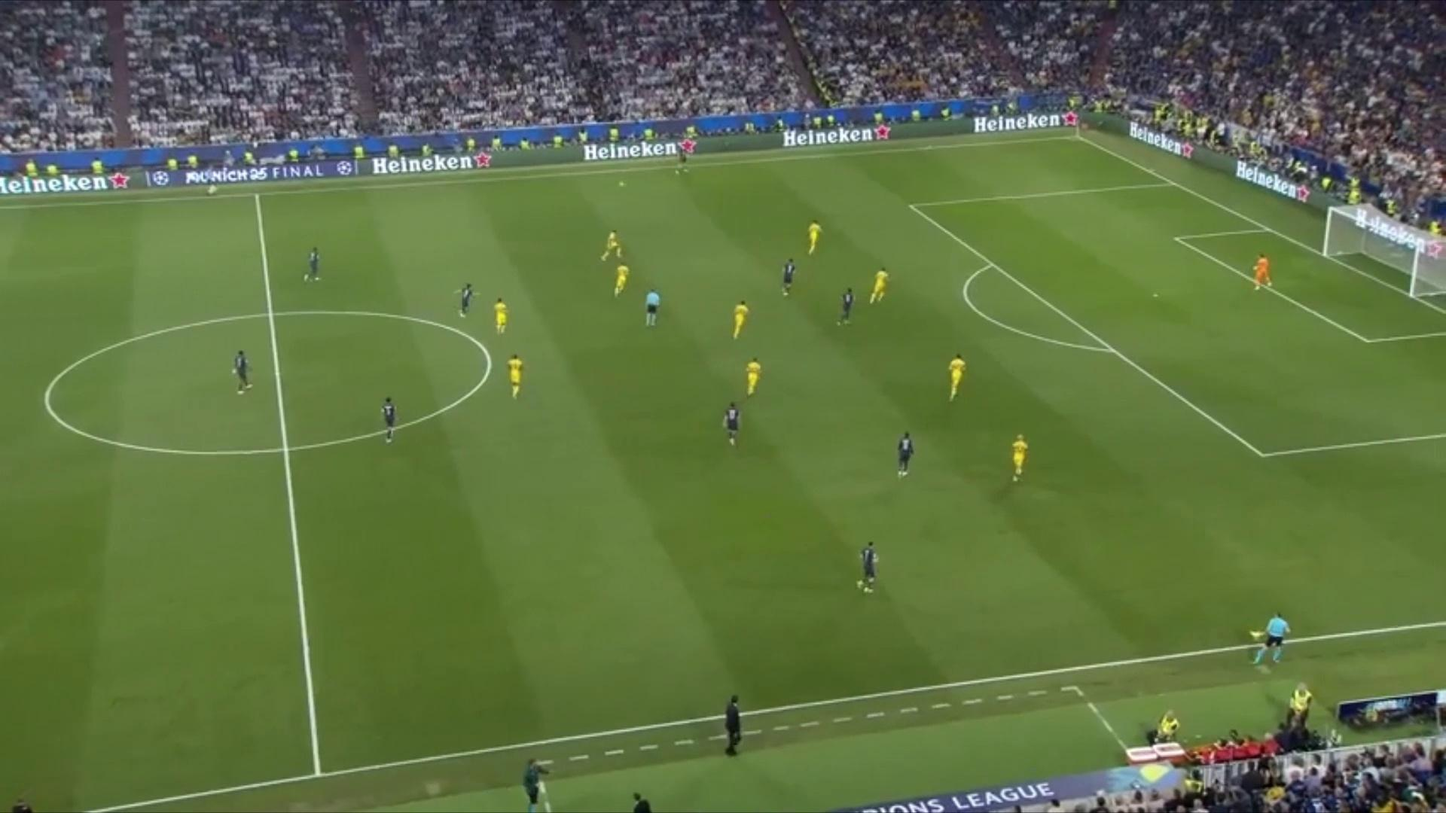ball: (614, 172, 630, 195)
player_A: (851, 534, 884, 598), (227, 347, 260, 401), (297, 244, 327, 289), (721, 396, 744, 454), (379, 393, 402, 448), (451, 281, 480, 323), (778, 250, 797, 300), (838, 282, 856, 332), (896, 426, 912, 482), (675, 133, 687, 176)
player_B: (485, 288, 512, 340), (868, 257, 894, 308), (505, 345, 529, 399), (597, 225, 628, 266), (740, 350, 765, 400), (945, 350, 967, 401), (610, 253, 634, 299), (1010, 428, 1028, 484), (732, 294, 748, 341), (805, 217, 824, 254)
player_B_goal_keeper: (1251, 246, 1273, 292)
referee: (1248, 600, 1292, 673), (516, 750, 552, 811), (640, 282, 664, 330), (202, 150, 222, 204)
